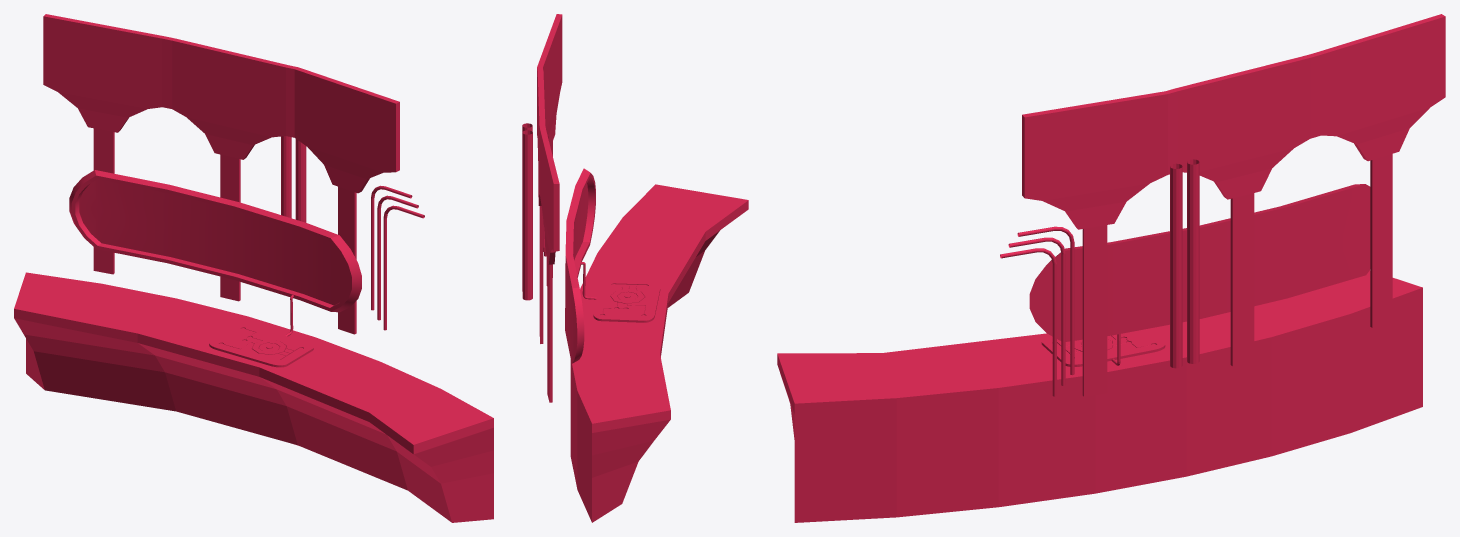
Rendered from MesaVermelhas.fbx.
The picture shows the model from 3 angles, left to right: view 1: azimuth 30°, elevation 25°; view 2: azimuth 150°, elevation 25°; view 3: azimuth 270°, elevation 25°; orthographic projection. The views are drawn at different scales.
Visible parts, largest first — view 1: Table, Cylinder.043, memoBoard, controlTable, Plane.011, Plane.010, Plane.008, Plane.009, Plane.007; view 2: Table, Cylinder.043, memoBoard, controlTable, Plane.010; view 3: Table, Cylinder.043, memoBoard, Plane.010, Plane.011, controlTable, Plane.009, Plane.008, Plane.007.
Part boxes in pixels (x1,y1,x2,y2): Table: (14,272,493,522); Cylinder.043: (43,14,399,334); memoBoard: (69,170,361,312); controlTable: (209,324,313,367); Plane.011: (295,139,306,222); Plane.010: (281,136,291,218); Plane.008: (377,195,418,320); Plane.009: (383,205,424,330); Plane.007: (371,185,412,310); Table: (570,184,748,522); Cylinder.043: (537,14,562,402); memoBoard: (565,168,595,363); controlTable: (593,280,660,322); Plane.010: (522,130,532,300); Table: (777,270,1422,522); Cylinder.043: (1022,14,1445,396); memoBoard: (1029,184,1370,341); Plane.010: (1187,159,1199,363); Plane.011: (1170,163,1182,368); controlTable: (1041,328,1165,366); Plane.009: (1000,248,1056,396); Plane.008: (1008,237,1065,385); Plane.007: (1017,226,1074,375).
Bounding box in the file's own units: 343 × 425 × 632.
